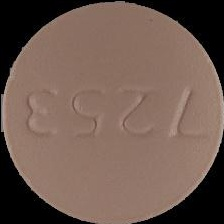66336-561: (0, 0, 224, 224)
